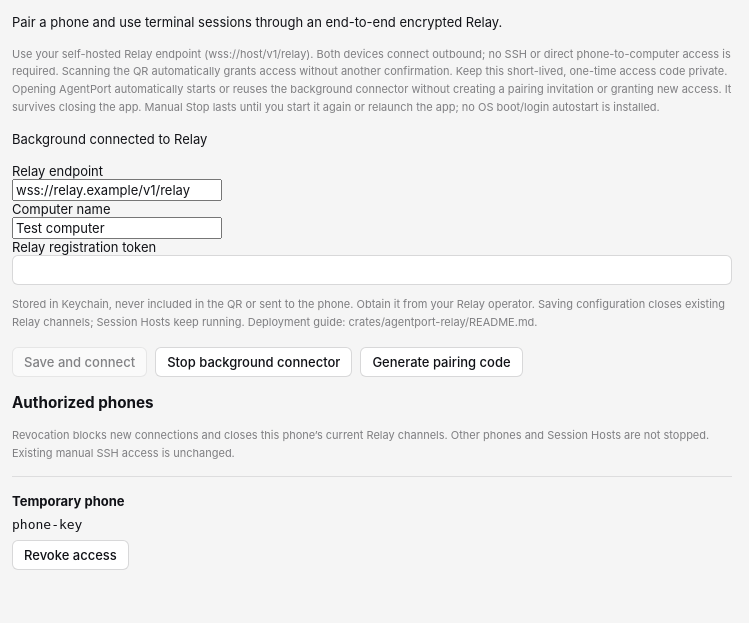
Test case: does not replay an uncertain automatic invitation
Expected: the text "Background connected to Relay" is shown, [12, 131, 207, 147]
Click the button "Generate pairing code" at (442, 362), box [360, 347, 523, 377]
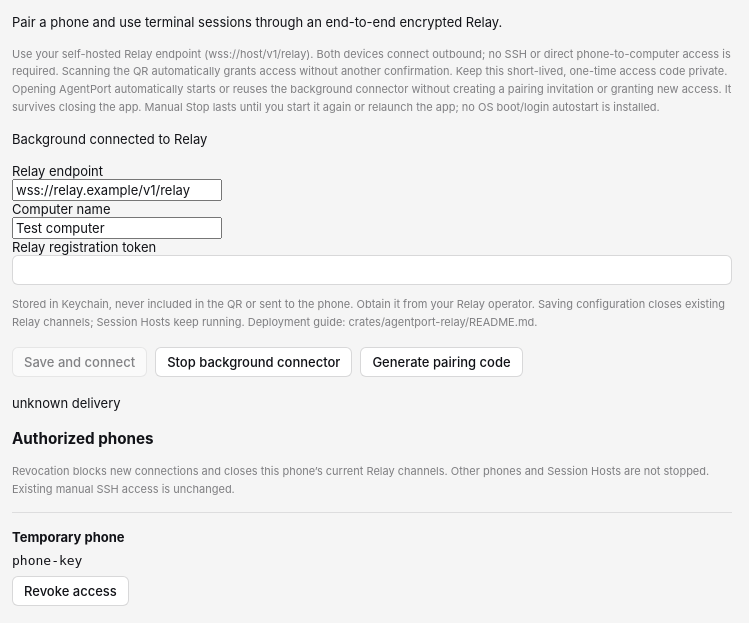
Now the text "unknown delivery" is shown, box [12, 395, 121, 411]
